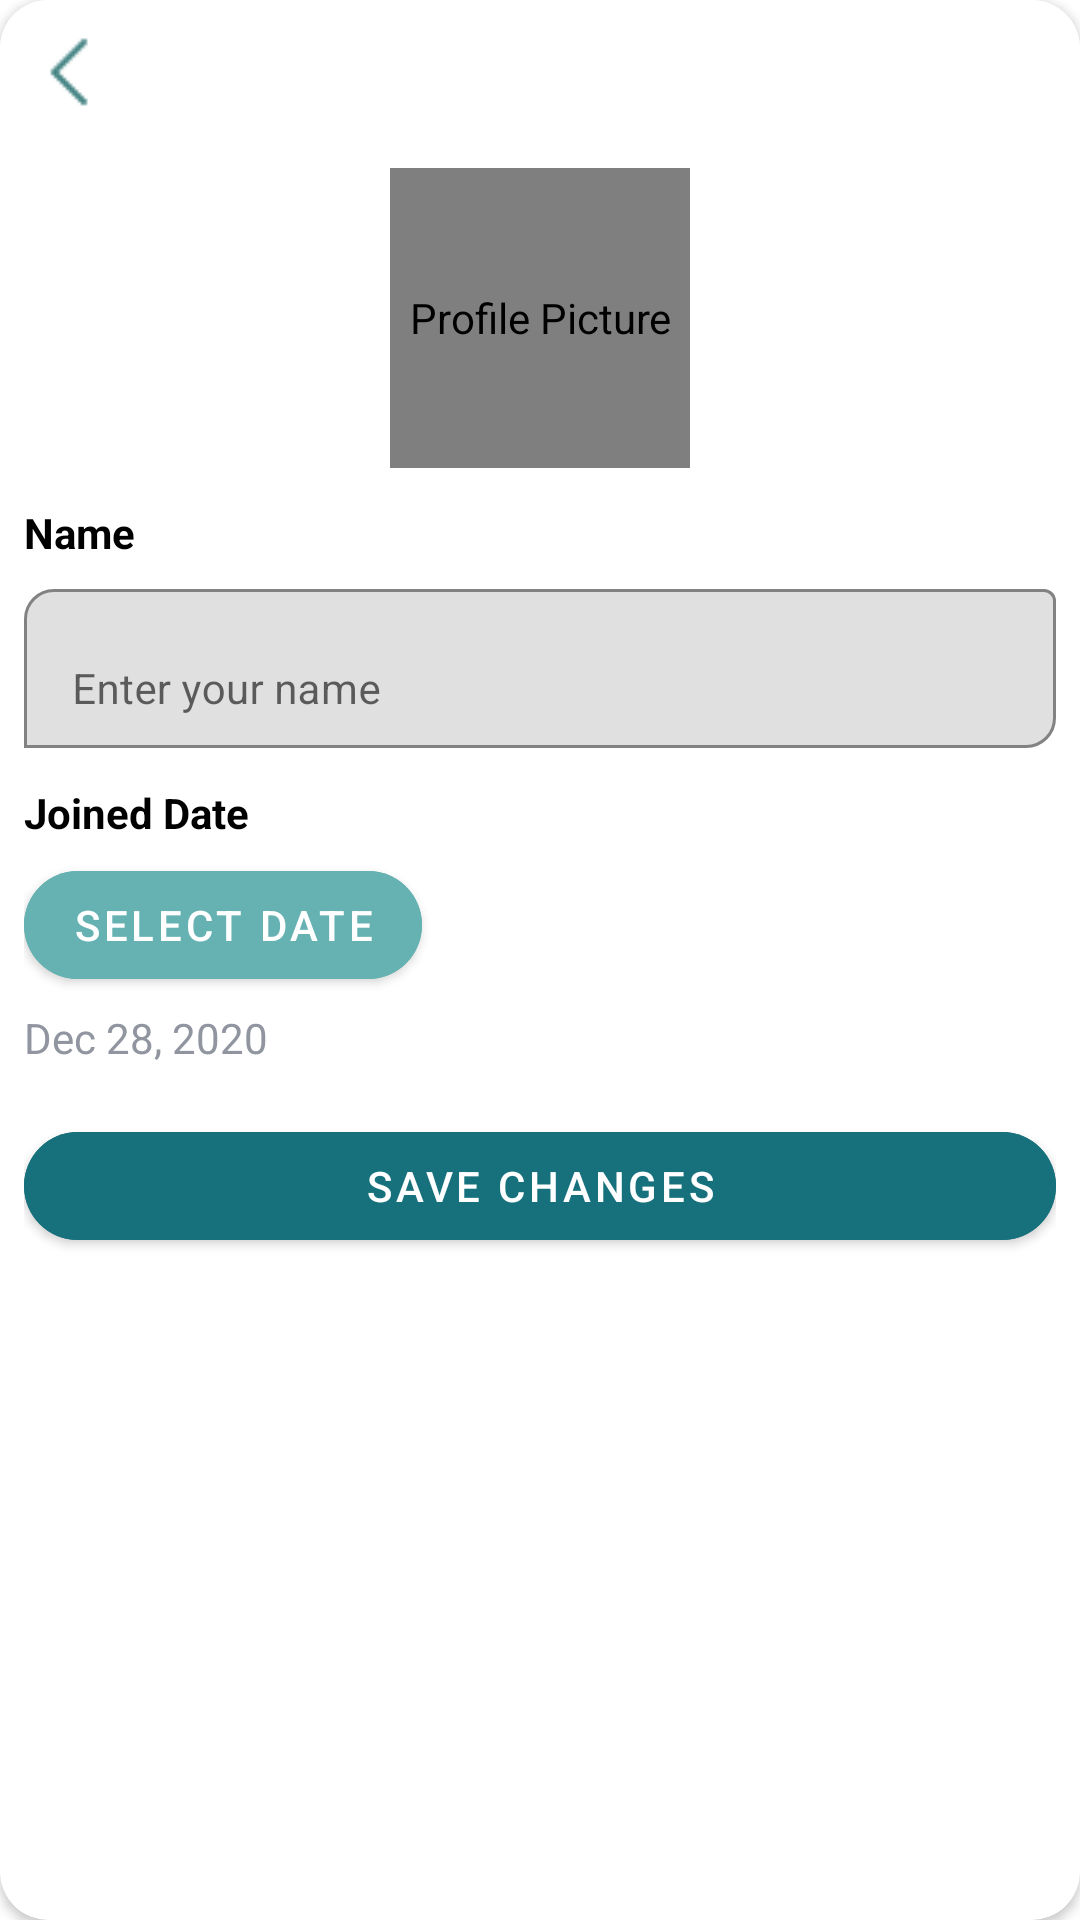

Icon click points for this 1080 x 1920 phone screenshot, format [x,y]:
arrow left: [69,72]
